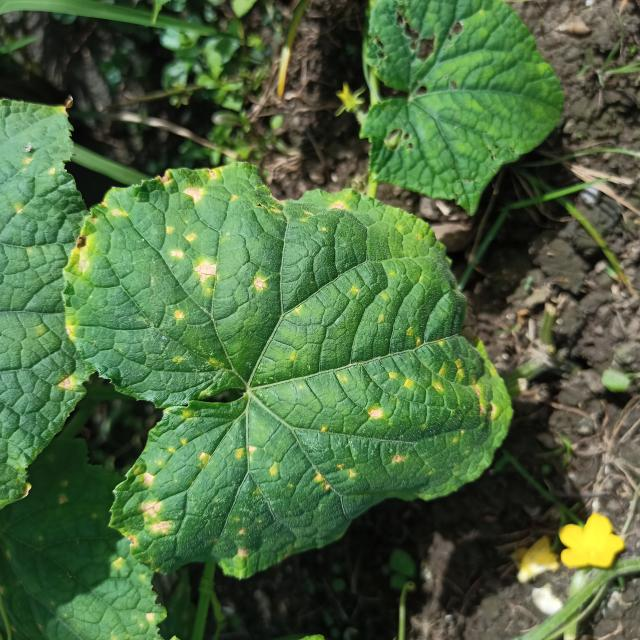disease_cucumber: (66, 167, 500, 563), (10, 154, 60, 215)
